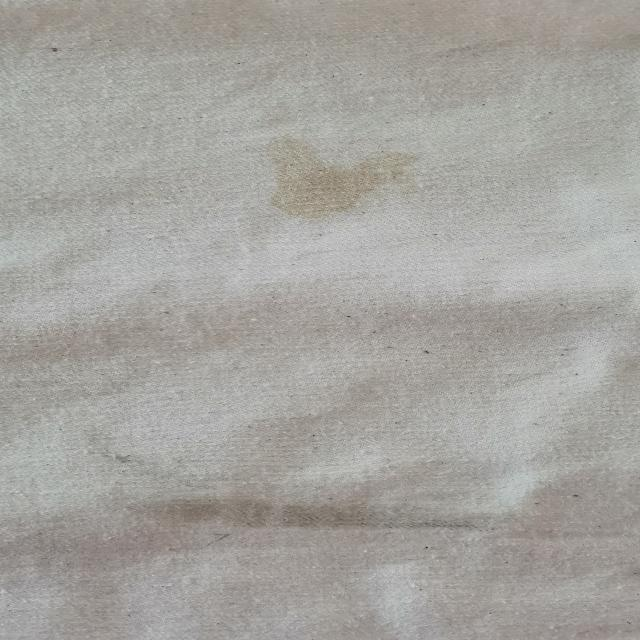taaaches: (124, 486, 540, 546), (235, 129, 434, 229), (63, 418, 156, 476)
